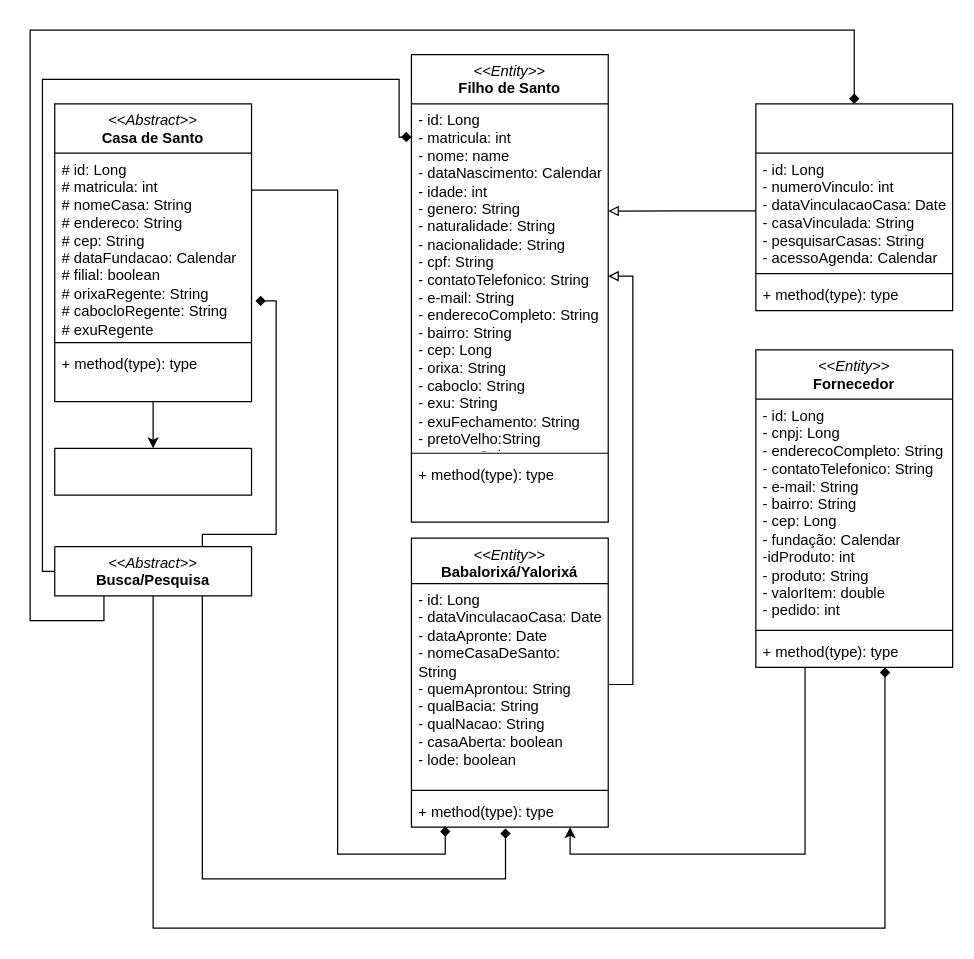
This 974x959 diagram has some shape labels left out. Here are the shapes that lost their labels. From the top down, the box of each, then its label:
(755, 103, 953, 311): <<Entity>> Cliente
(54, 447, 252, 495): <<Extension>> Casa de Santo (Filial)
